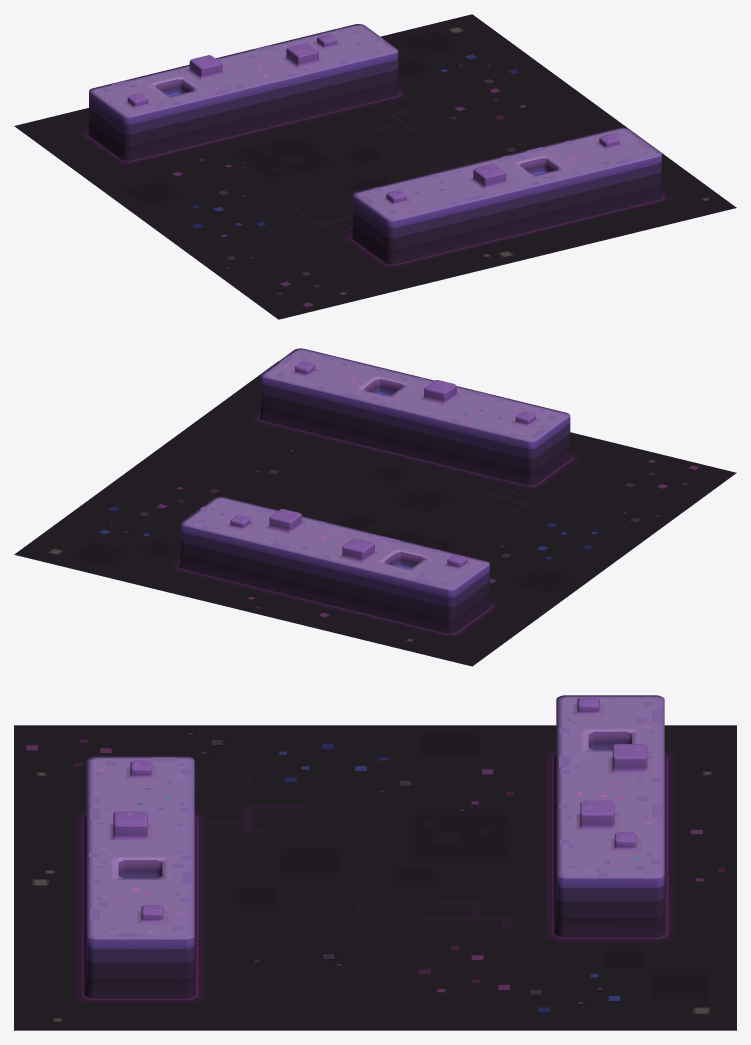
File: C_special1_01.fbx
3 views of the same model, one above another, from view 1: azimuth 30°, elevation 25°; view 2: azimuth 150°, elevation 25°; view 3: azimuth 270°, elevation 25° (orthographic). The views are drawn at different scales.
Parts seen in each view (by area): view 1: C_special1_01; view 2: C_special1_01; view 3: C_special1_01.
Part boxes in pixels (x1,y1,x2,y2): C_special1_01: (14,14,736,319); C_special1_01: (14,348,736,666); C_special1_01: (14,695,736,1030).
Size of the model in its own units: 50 by 5.85 by 50.
